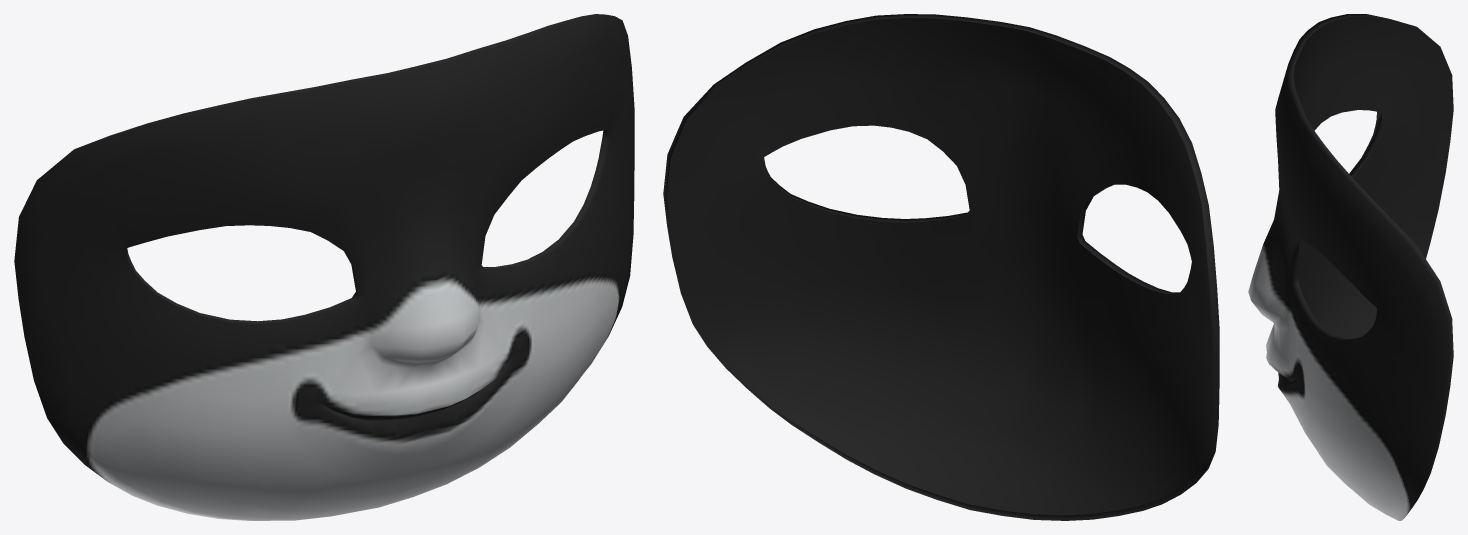
File: AccessoryGlassmouthPierrot0.glb
3 views of the same model, side by side, from view 1: azimuth 30°, elevation 25°; view 2: azimuth 150°, elevation 25°; view 3: azimuth 270°, elevation 25° (orthographic). The views are drawn at different scales.
Visible parts, largest first — view 1: Accessory__mAccessory; view 2: Accessory__mAccessory; view 3: Accessory__mAccessory.
Part boxes in pixels (x1=…): Accessory__mAccessory: x1=14, y1=14, x2=634, y2=520; Accessory__mAccessory: x1=663, y1=14, x2=1219, y2=520; Accessory__mAccessory: x1=1248, y1=14, x2=1453, y2=520.
Size of the model in its own units: 5.81 by 4.39 by 2.01.
Materials: 1 (1 with a texture image).
